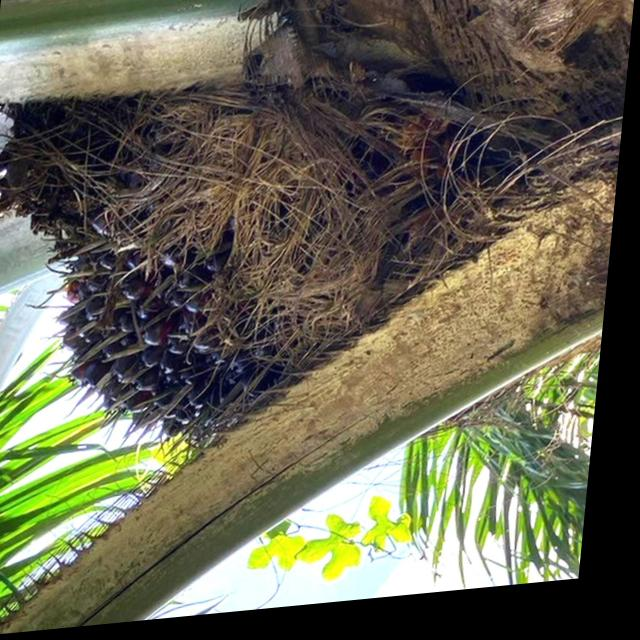ripe: (43, 162, 340, 455)
